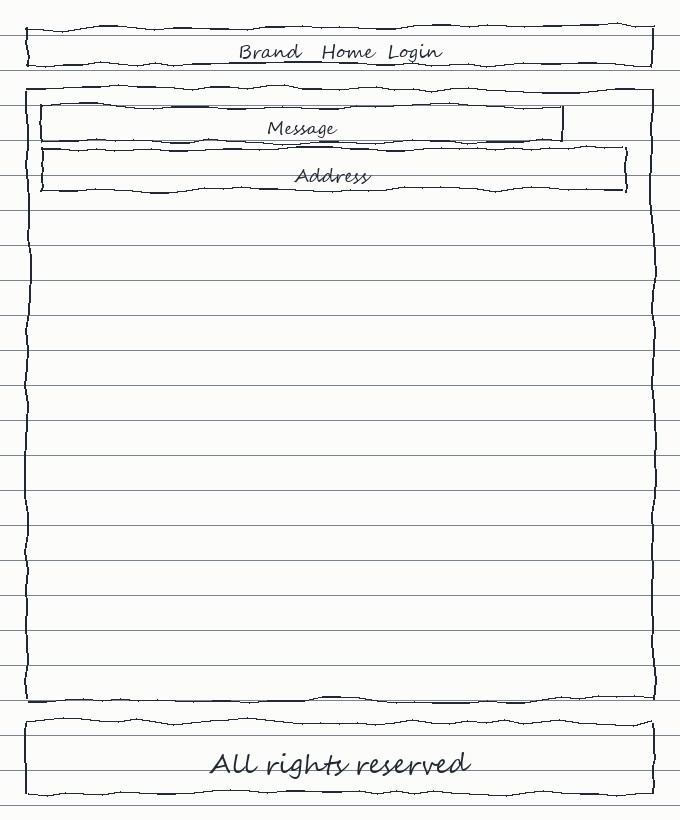card: (42, 149, 624, 191), (42, 105, 562, 143)
footer: (27, 723, 653, 793)
navbar: (27, 27, 653, 67)
section: (27, 90, 653, 700)
